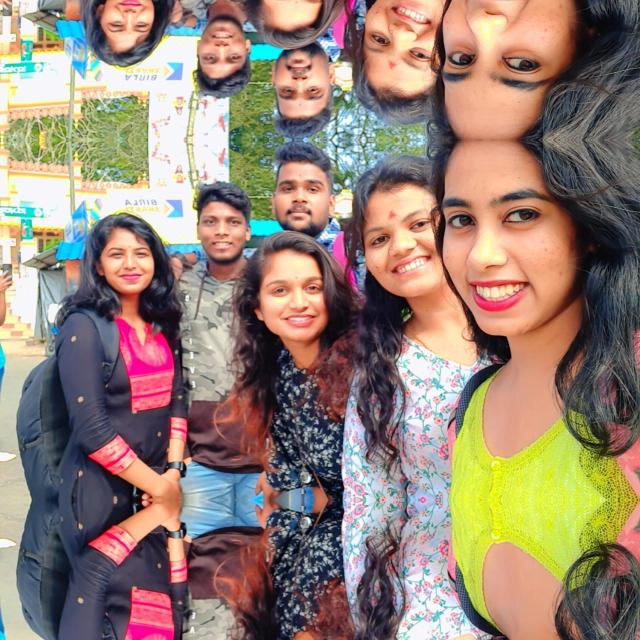person: (438, 152, 640, 500), (348, 166, 462, 500), (52, 216, 192, 470), (238, 238, 359, 500), (438, 499, 639, 640), (438, 0, 639, 128), (238, 500, 359, 640), (347, 500, 462, 640), (52, 530, 191, 640), (182, 188, 248, 416), (347, 0, 462, 114), (52, 0, 191, 64), (182, 0, 247, 92), (268, 146, 332, 234), (268, 46, 332, 134), (238, 0, 359, 42), (182, 584, 247, 640)
